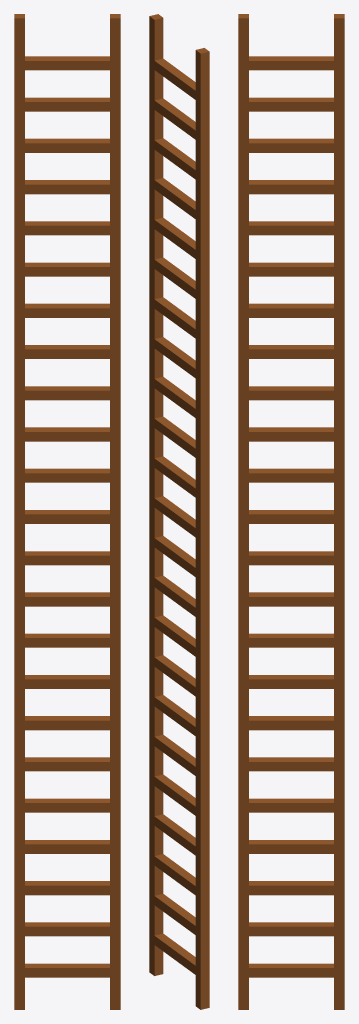
The model's file is Buildings_Wooden_Ladder_01.fbx.
The picture shows the model from 3 angles, left to right: view 1: azimuth 90°, elevation 25°; view 2: azimuth 210°, elevation 25°; view 3: azimuth 270°, elevation 25°; orthographic projection. The views are drawn at different scales.
Visible parts, largest first — view 1: Group11, Group14, Group2, Group4, Group5, Group6, Group7, Group8, Group9, Group10, Group12, Group13 (+13 smaller); view 2: Group11, Group14, Group3, Group21, Group22, Group5, Group13, Group15, Group18, Group19, Group20, Group24 (+13 smaller); view 3: Group11, Group14, Group2, Group4, Group5, Group6, Group7, Group8, Group9, Group10, Group12, Group13 (+13 smaller).
Boxes of the visible parts, x1,y1,x2,y2 form: Group11: (14,14,24,1009); Group14: (110,14,120,1009); Group2: (25,963,109,977); Group4: (25,386,109,400); Group5: (25,427,109,441); Group6: (25,262,109,276); Group7: (25,180,109,194); Group8: (25,716,109,730); Group9: (25,922,109,936); Group10: (25,757,109,771); Group12: (25,592,109,606); Group13: (25,138,109,152); Group11: (195,48,209,1009); Group14: (149,14,163,975); Group3: (154,814,195,855); Group21: (154,337,195,378); Group22: (154,98,195,139); Group5: (154,416,195,457); Group13: (154,138,195,179); Group15: (154,854,195,895); Group18: (154,456,195,497); Group19: (154,615,195,656); Group20: (154,536,195,576); Group24: (154,496,195,537); Group11: (334,14,344,1009); Group14: (238,14,248,1009); Group2: (249,963,333,977); Group4: (249,386,333,400); Group5: (249,427,333,441); Group6: (249,262,333,276); Group7: (249,180,333,194); Group8: (249,716,333,730); Group9: (249,922,333,936); Group10: (249,757,333,771); Group12: (249,592,333,606); Group13: (249,138,333,152).
Bounding box in the file's own units: 17.69 × 1823 × 177.
